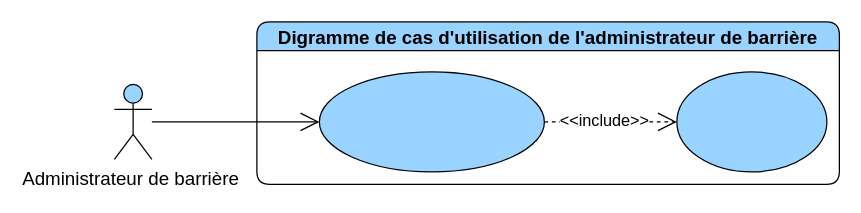
This 861x213 diagram has some shape labels left out. The centre of each missing label's shape, as x and y in pixels:
"Facturer les trajet d'un utilisateur possedant un ticket" belongs at pixel 431 121.
"S'authenthifier" belongs at pixel 751 121.
